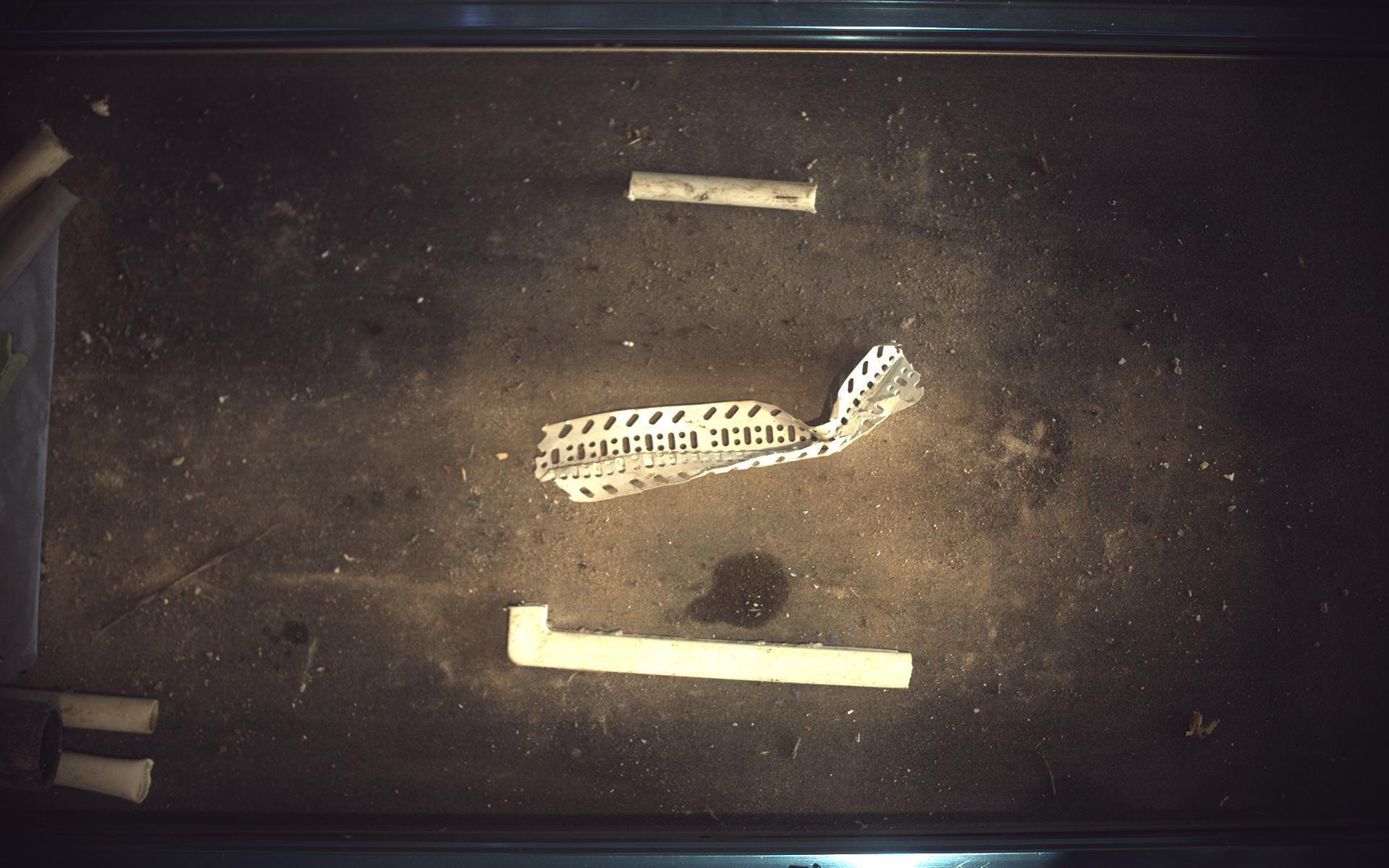pipes: (509, 605, 914, 689), (1, 177, 78, 298), (629, 170, 819, 212), (1, 690, 158, 736), (1, 123, 71, 218), (1, 699, 61, 792), (52, 753, 153, 806), (1, 331, 25, 404)
plastic: (536, 342, 925, 502)
